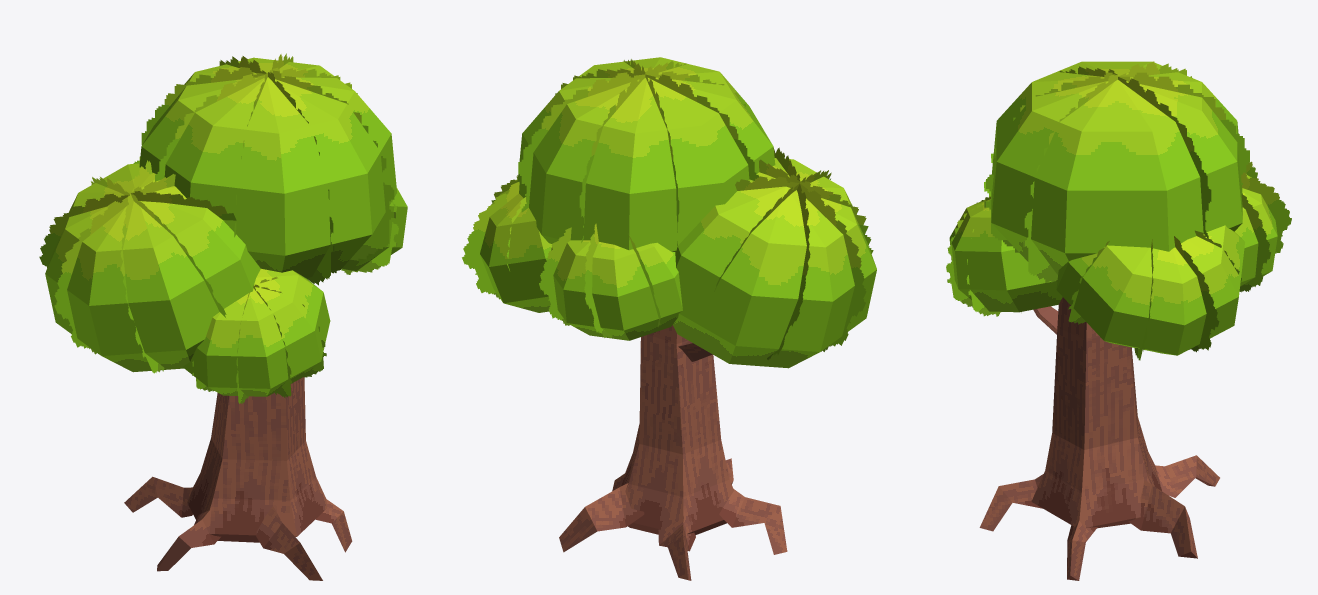
File: nto_dub1.gltf
3 renders of one model, left to right at view 1: azimuth 30°, elevation 25°; view 2: azimuth 150°, elevation 25°; view 3: azimuth 270°, elevation 25°, orthographic.
Visible parts, largest first — view 1: cylinder; view 2: cylinder; view 3: cylinder.
Boxes of the visible parts, left/top/right/bottom form: cylinder: left=39, top=53, right=407, bottom=580; cylinder: left=462, top=57, right=876, bottom=580; cylinder: left=946, top=61, right=1291, bottom=580.
Bounding box in the file's own units: 10.35 × 11.67 × 8.06.
1 material, 1 textured.
